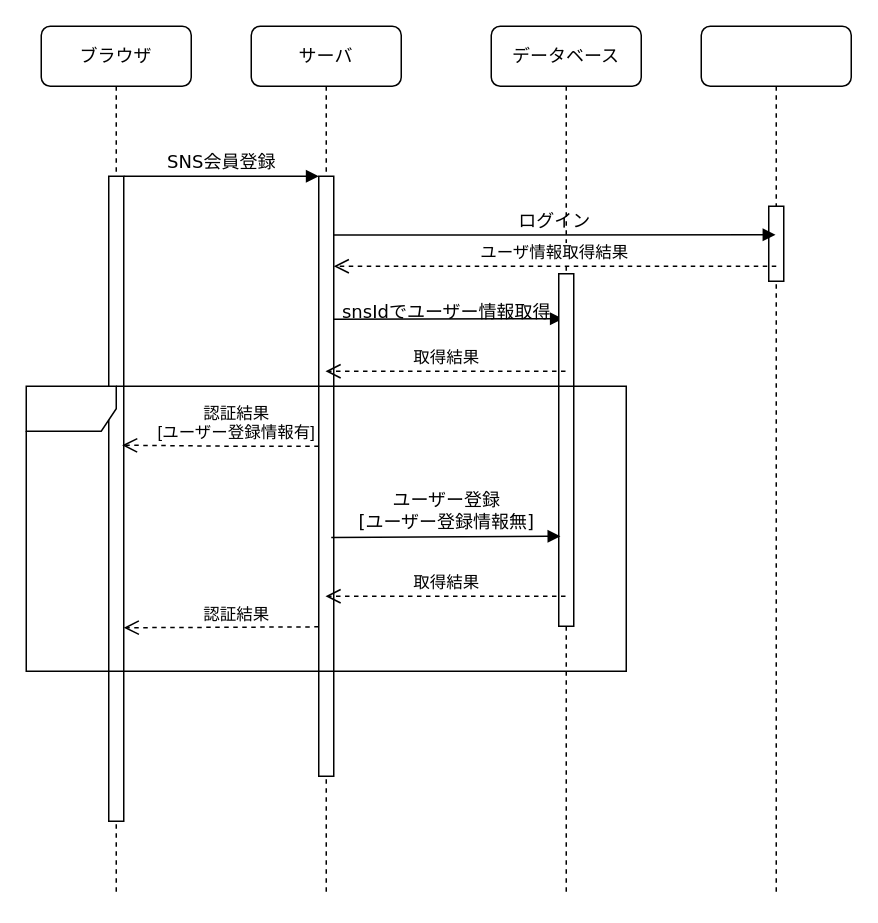
This 878x923 diagram has some shape labels left out. Each missing label, with the box of its shape:
OPT: (25, 385, 626, 671)
外部システム: (700, 25, 851, 896)
